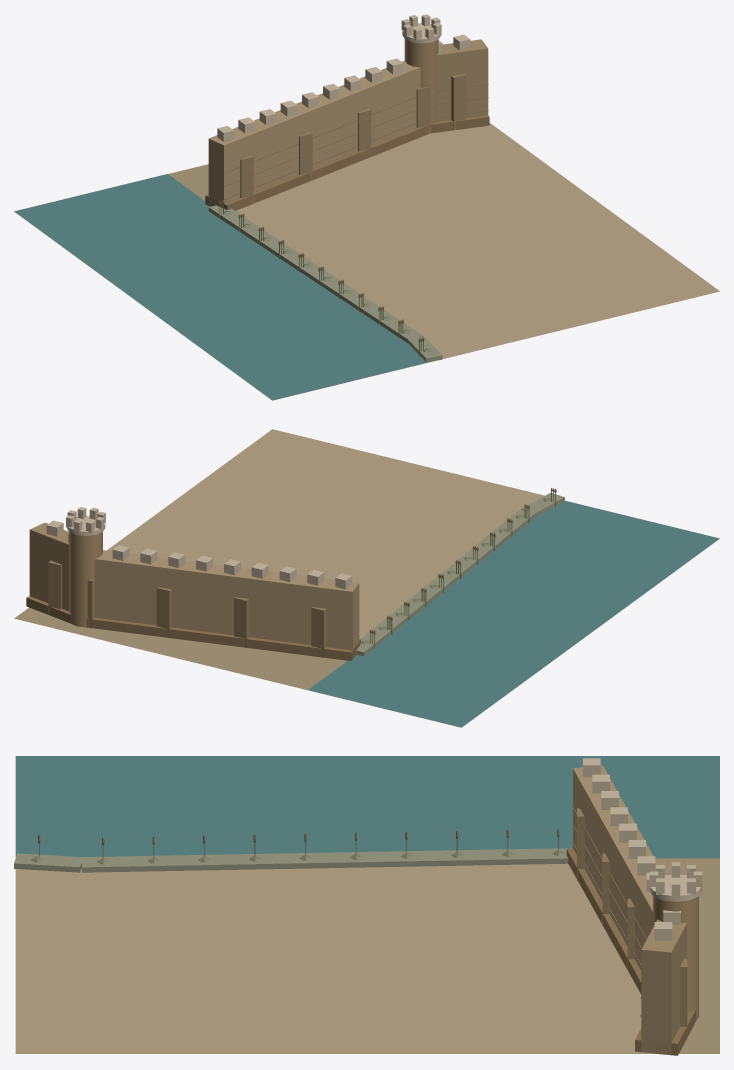
Rendered from city-boundary--2_-2.glb.
3 renders of one model, top to bottom at view 1: azimuth 30°, elevation 25°; view 2: azimuth 150°, elevation 25°; view 3: azimuth 270°, elevation 25°, orthographic. The views are drawn at different scales.
Parts seen in each view (by area): view 1: city-boundary--2_-2; view 2: city-boundary--2_-2; view 3: city-boundary--2_-2.
Part boxes in pixels (x1,y1,x2,y2): city-boundary--2_-2: [14, 14, 719, 400]; city-boundary--2_-2: [14, 429, 719, 727]; city-boundary--2_-2: [14, 756, 719, 1055].
Bounding box in the file's own units: 32.22 × 7.19 × 32.07.
